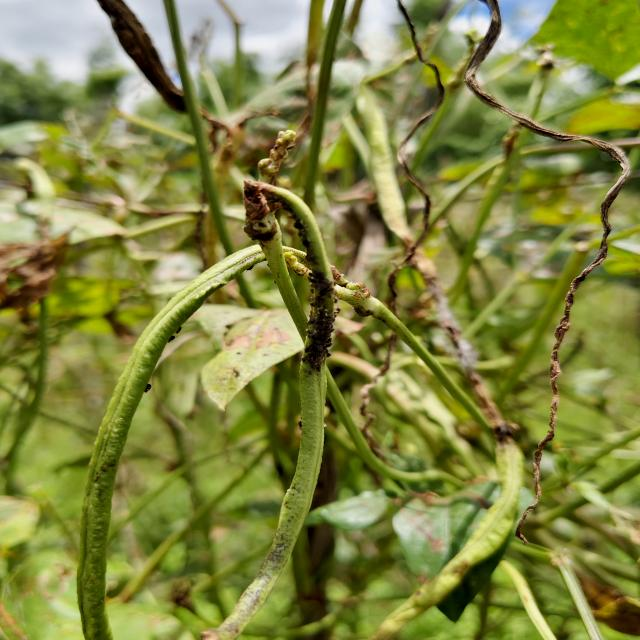sitaw-aphid-moderate: (201, 180, 340, 640)
sitaw-healthy: (77, 245, 265, 640)
